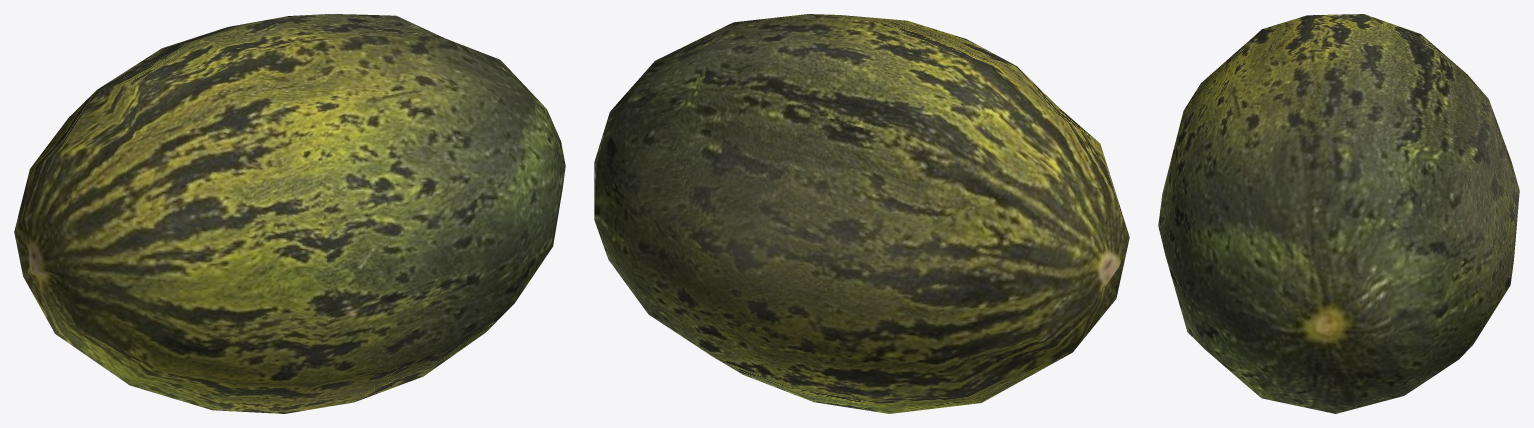
File: A98_Watermelon_low.fbx
3 views of the same model, side by side, from view 1: azimuth 30°, elevation 25°; view 2: azimuth 150°, elevation 25°; view 3: azimuth 270°, elevation 25° (orthographic). The views are drawn at different scales.
Visible parts, largest first — view 1: A98_Watermelon_low; view 2: A98_Watermelon_low; view 3: A98_Watermelon_low.
Part boxes in pixels (<box>): A98_Watermelon_low: <box>14,14,565,413</box>; A98_Watermelon_low: <box>594,14,1129,413</box>; A98_Watermelon_low: <box>1158,14,1519,413</box>.
Bounding box in the file's own units: 29.59 × 19.98 × 19.87.
Materials: 1 (1 with a texture image).
